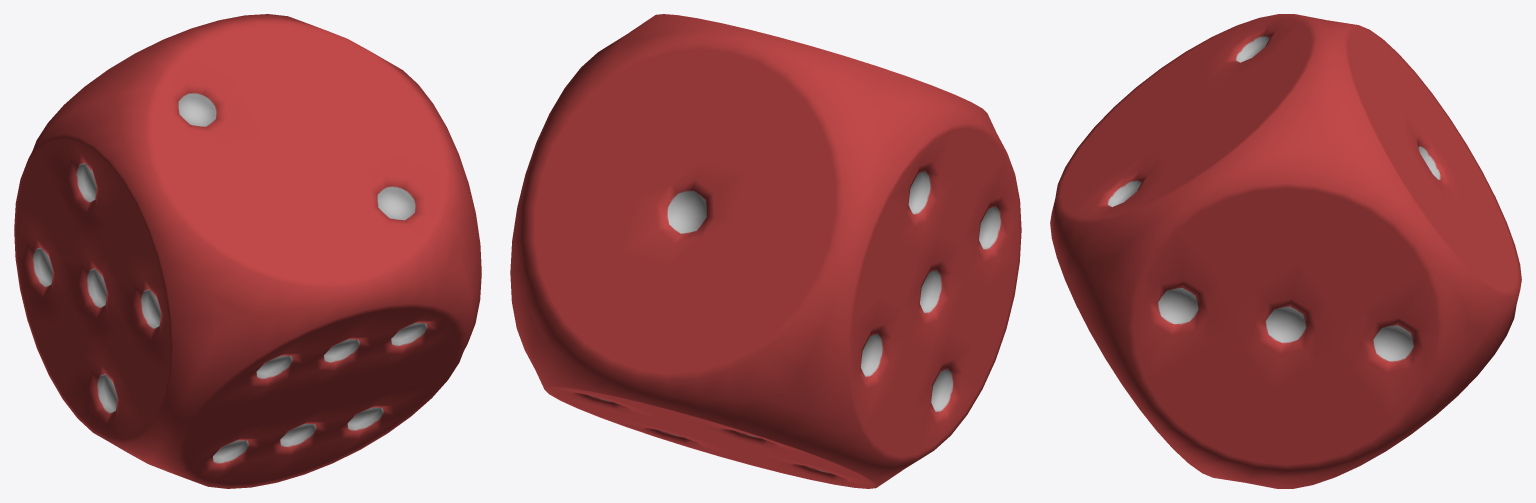
File: diceCollada.dae
The picture shows the model from 3 angles, left to right: view 1: azimuth 30°, elevation 25°; view 2: azimuth 150°, elevation 25°; view 3: azimuth 270°, elevation 25°; orthographic projection. The views are drawn at different scales.
Parts seen in each view (by area): view 1: Dice; view 2: Dice; view 3: Dice.
Part boxes in pixels (left/top/right/bottom): Dice: left=14, top=14, right=481, bottom=488; Dice: left=510, top=14, right=1021, bottom=488; Dice: left=1050, top=14, right=1521, bottom=488.
Bounding box in the file's own units: 0.01 × 0.0133 × 0.0133.
Materials: 1 (1 with a texture image).
